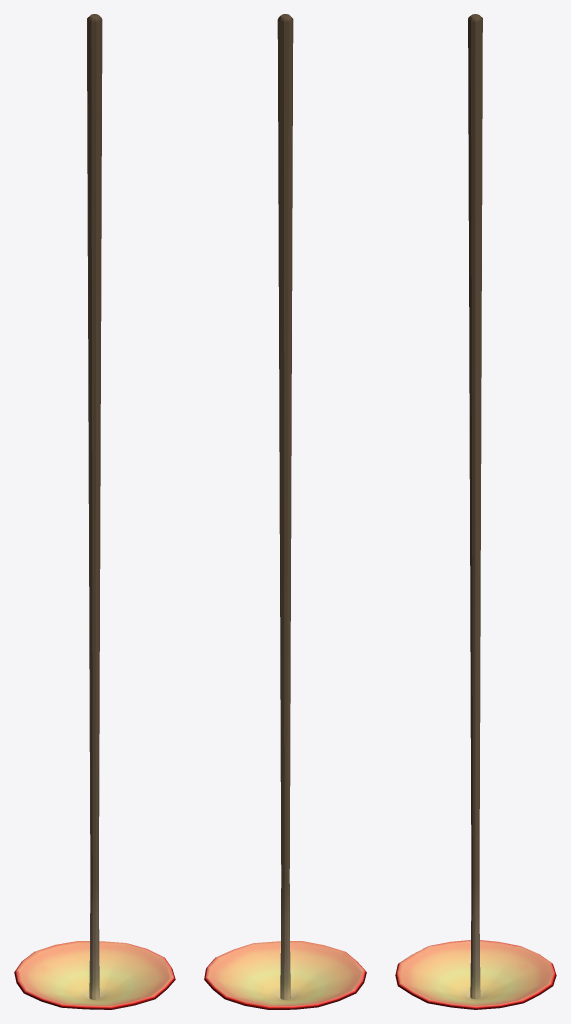
File: MD_MushLight_01_02.fbx
The picture shows the model from 3 angles, left to right: view 1: azimuth 30°, elevation 25°; view 2: azimuth 150°, elevation 25°; view 3: azimuth 270°, elevation 25°; orthographic projection.
Parts seen in each view (by area): view 1: MushroomLight01; view 2: MushroomLight01; view 3: MushroomLight01.
Part boxes in pixels (<box>): MushroomLight01: <box>14,14,175,1009</box>; MushroomLight01: <box>204,14,366,1009</box>; MushroomLight01: <box>395,14,556,1009</box>.
Bounding box in the file's own units: 469 × 3109 × 462.
